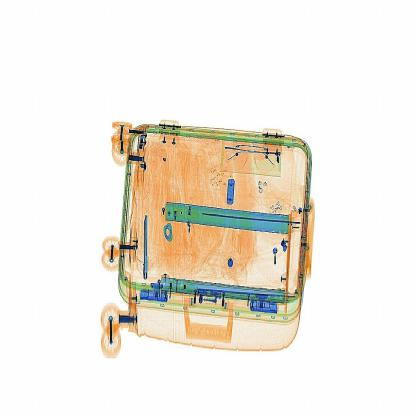pliers: (132, 207, 160, 284)
